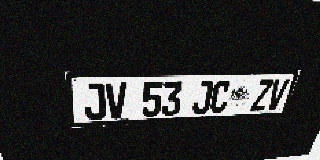3: (161, 81, 183, 116)
5: (142, 82, 163, 117)
C: (209, 80, 232, 113)
J: (82, 83, 106, 120), (191, 81, 214, 114)
V: (105, 82, 127, 119), (265, 79, 290, 110)
Z: (250, 80, 274, 111)
